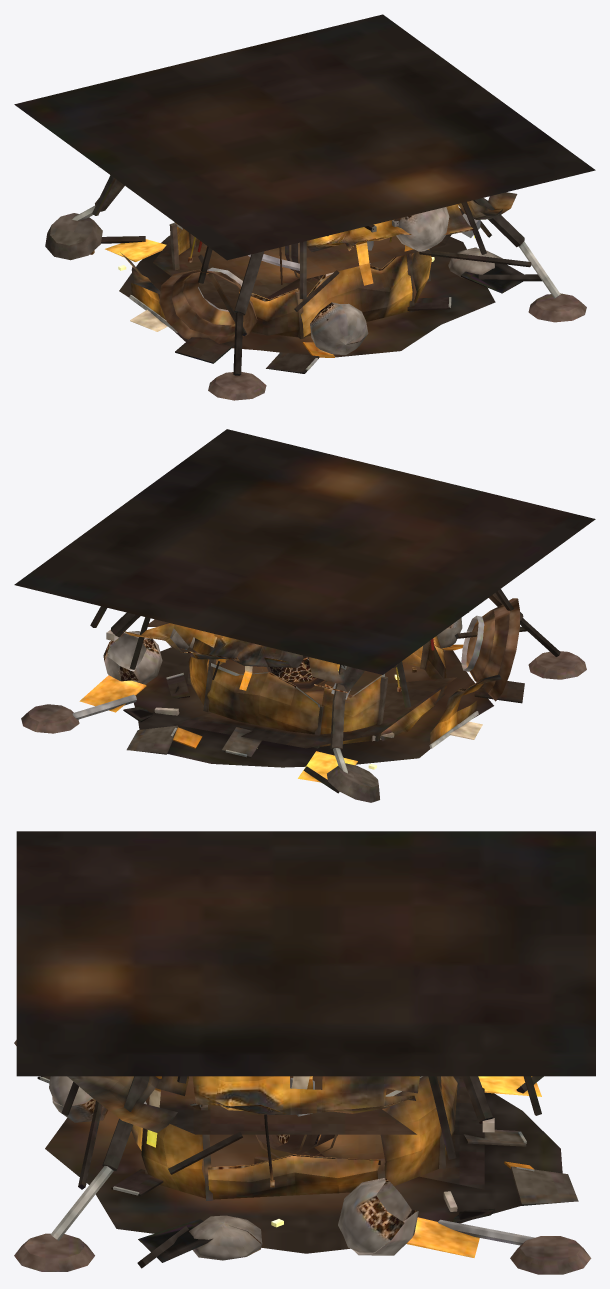
The model's file is lander_wreck.glb.
3 views of the same model, one above another, from view 1: azimuth 30°, elevation 25°; view 2: azimuth 150°, elevation 25°; view 3: azimuth 270°, elevation 25° (orthographic). The views are drawn at different scales.
Parts seen in each view (by area): view 1: lander_wreck_mesh; view 2: lander_wreck_mesh; view 3: lander_wreck_mesh.
Part boxes in pixels (<box>): lander_wreck_mesh: <box>14,14,595,400</box>; lander_wreck_mesh: <box>14,429,595,802</box>; lander_wreck_mesh: <box>14,831,595,1274</box>.
Bounding box in the file's own units: 5.78 × 2.12 × 5.73.
4 materials, 4 textured.
